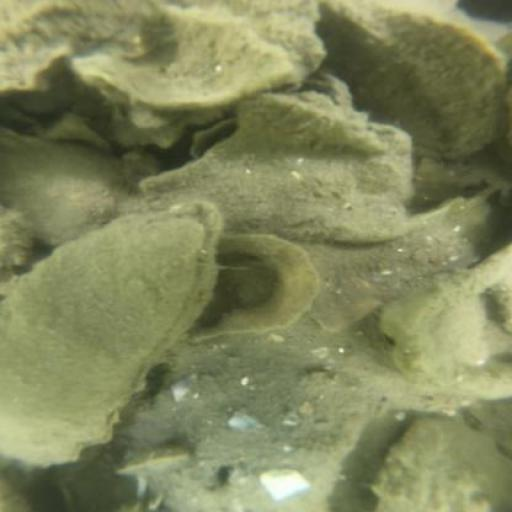Oyster-Closed: (136, 96, 412, 244), (118, 359, 369, 512), (326, 5, 501, 160), (10, 1, 163, 93), (160, 442, 346, 512), (7, 135, 121, 243), (374, 420, 504, 512), (229, 96, 390, 157), (2, 208, 32, 273)
Oyster-Open: (8, 210, 223, 454)
